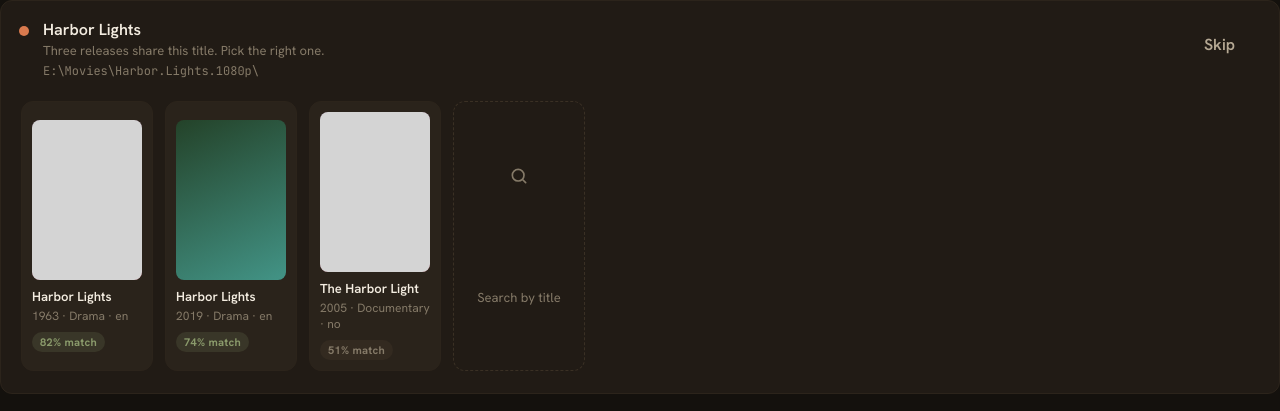
Test case: DecisionRow — the ambiguous face, the candidate picker › swaps the picker for the box, prefilled with the title, on Search by title
Click the button "Search by title" at x=519, y=236, box [453,101,585,371]
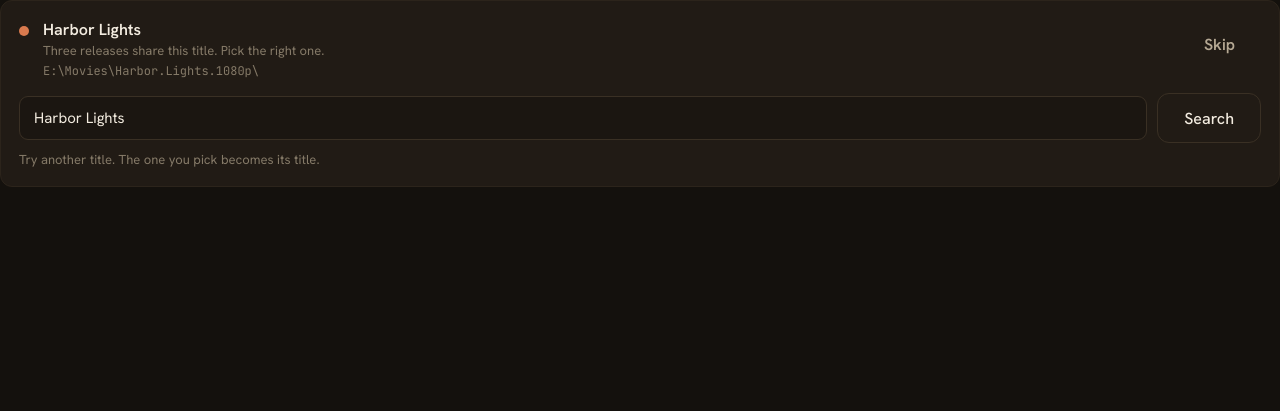
Result: the field with placeholder "Search TMDB by title and year" holds "Harbor Lights" at [19,96,1147,140]
Result: no buttons "% match" are shown
